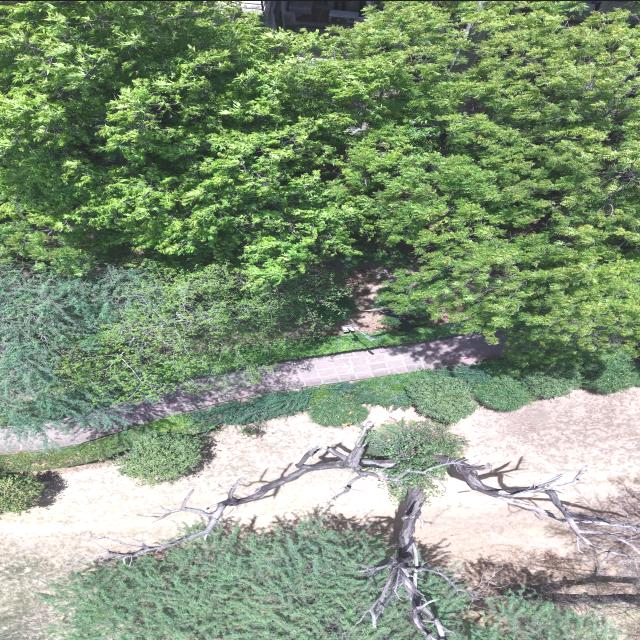DRY_AREA: (0, 413, 356, 639), (0, 334, 502, 452), (0, 334, 503, 451)
VEGETATION_TREE: (0, 1, 639, 471), (0, 1, 638, 429), (2, 1, 637, 280), (43, 421, 637, 639), (92, 419, 637, 564), (0, 349, 639, 471), (83, 352, 630, 461), (0, 265, 343, 430), (0, 370, 477, 471), (43, 519, 425, 639), (45, 520, 423, 639), (59, 265, 347, 402), (191, 349, 639, 429), (377, 234, 638, 352), (0, 264, 135, 430), (0, 414, 206, 484), (0, 414, 207, 483), (0, 414, 205, 483), (0, 413, 205, 471), (0, 426, 144, 472), (300, 316, 455, 355), (189, 388, 315, 431), (367, 420, 468, 471), (116, 430, 206, 484), (405, 370, 477, 423), (307, 389, 368, 424), (0, 473, 45, 513), (238, 423, 265, 437)
